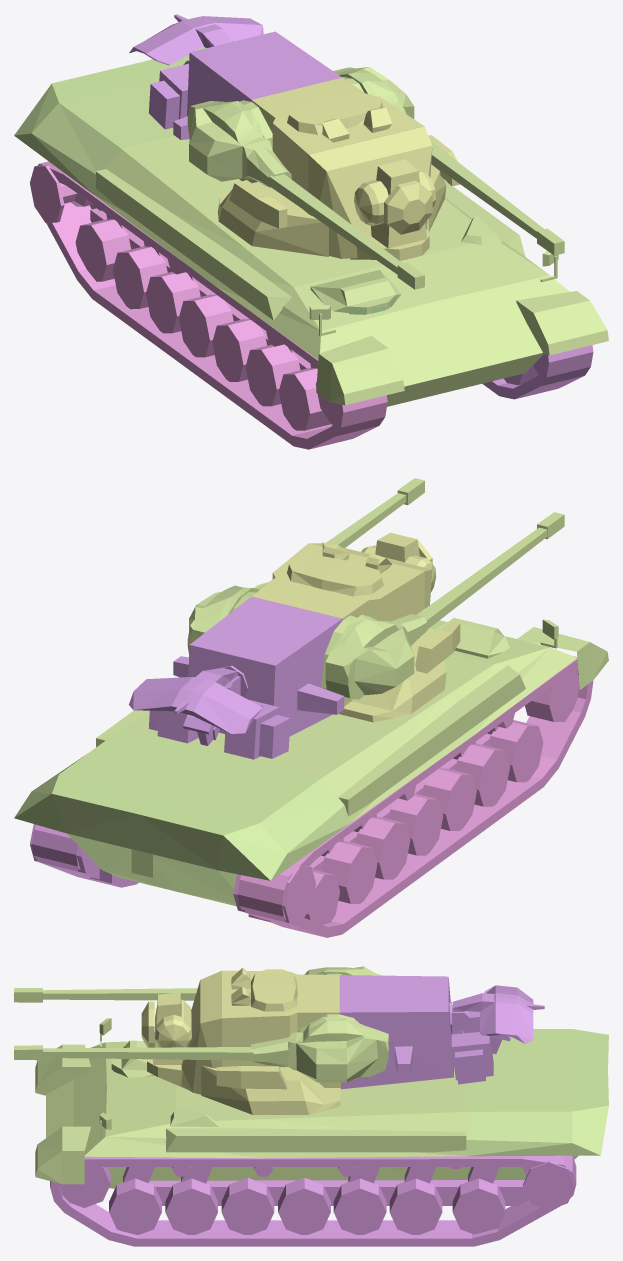
File: land-tracked-tnk-01-antiair.glb
3 views of the same model, one above another, from view 1: azimuth 30°, elevation 25°; view 2: azimuth 150°, elevation 25°; view 3: azimuth 270°, elevation 25° (orthographic). The views are drawn at different scales.
Visible parts, largest first — view 1: CC_TNK_03_Body, CC_TNK_03_Turret_Spin, CC_TNK_03_Turret_Pitch, CC_TNK_03_Turret_Barrel_R, CC_TNK_03_Turret_Barrel_L; view 2: CC_TNK_03_Body, CC_TNK_03_Turret_Spin, CC_TNK_03_Turret_Pitch, CC_TNK_03_Turret_Barrel_R, CC_TNK_03_Turret_Barrel_L; view 3: CC_TNK_03_Body, CC_TNK_03_Turret_Spin, CC_TNK_03_Turret_Pitch, CC_TNK_03_Turret_Barrel_L, CC_TNK_03_Turret_Barrel_R.
Part boxes in pixels (<box>): CC_TNK_03_Body: <box>14,46,608,449</box>; CC_TNK_03_Turret_Spin: <box>129,14,459,260</box>; CC_TNK_03_Turret_Pitch: <box>187,67,414,187</box>; CC_TNK_03_Turret_Barrel_R: <box>269,174,424,289</box>; CC_TNK_03_Turret_Barrel_L: <box>431,141,564,255</box>; CC_TNK_03_Body: <box>14,618,608,937</box>; CC_TNK_03_Turret_Spin: <box>129,532,460,759</box>; CC_TNK_03_Turret_Pitch: <box>187,583,427,701</box>; CC_TNK_03_Turret_Barrel_R: <box>416,512,564,629</box>; CC_TNK_03_Turret_Barrel_L: <box>269,478,424,581</box>; CC_TNK_03_Body: <box>35,1018,608,1246</box>; CC_TNK_03_Turret_Spin: <box>141,968,544,1114</box>; CC_TNK_03_Turret_Pitch: <box>251,966,388,1083</box>; CC_TNK_03_Turret_Barrel_L: <box>14,1045,253,1060</box>; CC_TNK_03_Turret_Barrel_R: <box>14,988,197,1002</box>.
Size of the model in its own units: 3.49 by 3.21 by 8.06.
